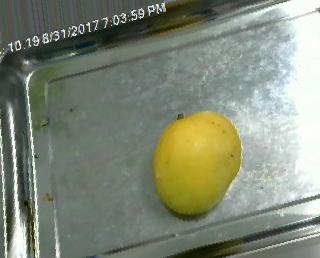Mango: (155, 105, 245, 219)
